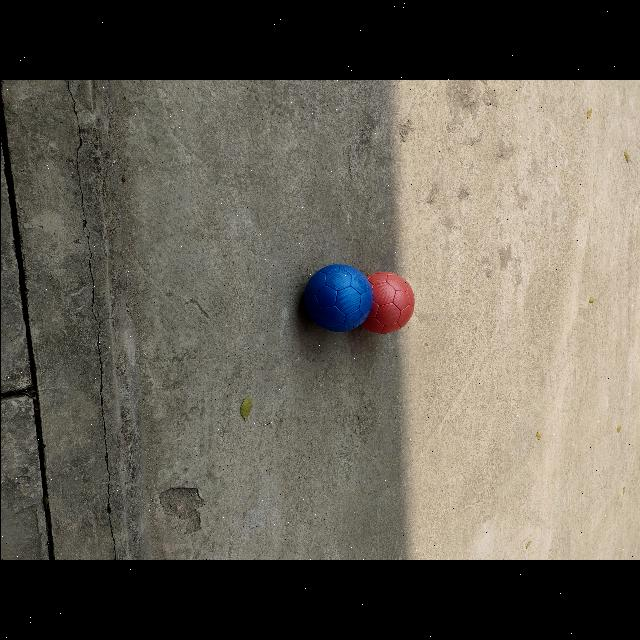B: (303, 263, 372, 332)
R: (362, 272, 413, 334)
